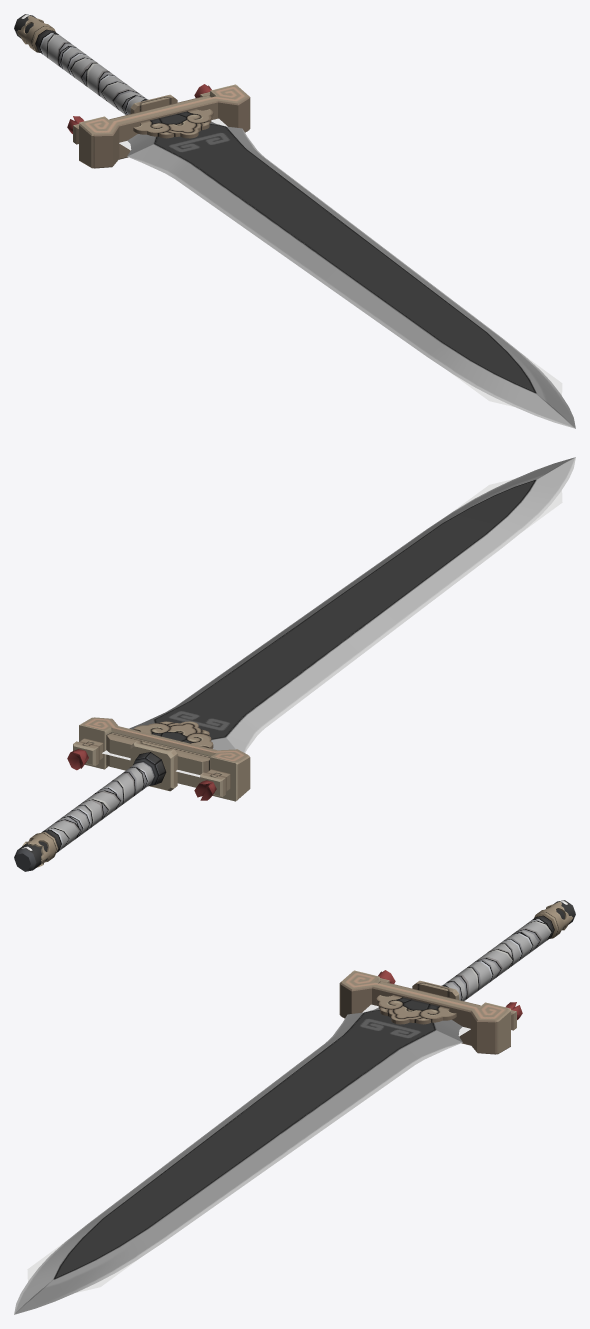
The model's file is Equip_Claymore_Quartz.fbx.
3 renders of one model, top to bottom at view 1: azimuth 30°, elevation 25°; view 2: azimuth 150°, elevation 25°; view 3: azimuth 330°, elevation 25°, orthographic.
Parts seen in each view (by area): view 1: Equip_Claymore_Quartz_Model, Equip_Claymore_EffectMesh; view 2: Equip_Claymore_Quartz_Model, Equip_Claymore_EffectMesh; view 3: Equip_Claymore_Quartz_Model, Equip_Claymore_EffectMesh.
Boxes of the visible parts, bbox=[...] form: Equip_Claymore_Quartz_Model: bbox=[14, 14, 575, 428]; Equip_Claymore_EffectMesh: bbox=[119, 118, 562, 406]; Equip_Claymore_Quartz_Model: bbox=[14, 457, 575, 871]; Equip_Claymore_EffectMesh: bbox=[102, 479, 562, 777]; Equip_Claymore_Quartz_Model: bbox=[14, 900, 575, 1314]; Equip_Claymore_EffectMesh: bbox=[27, 1004, 470, 1292].
Size of the model in its own units: 0.2891 by 0.0687 by 1.74.
2 materials, 1 textured.
